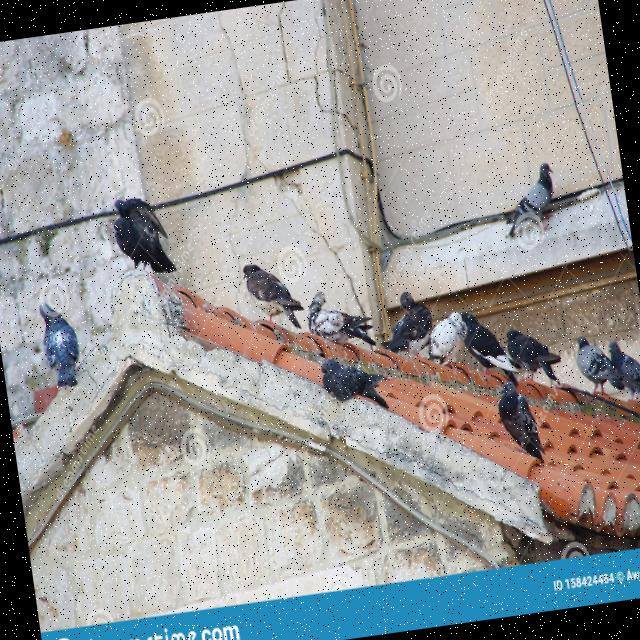bird: (108, 190, 178, 280), (302, 283, 380, 359), (454, 304, 524, 387), (318, 349, 398, 419), (240, 256, 308, 338), (496, 160, 564, 240), (493, 376, 549, 472), (372, 286, 438, 366), (36, 296, 86, 392), (503, 322, 566, 391), (572, 330, 628, 400), (422, 310, 472, 370), (604, 334, 640, 410)
